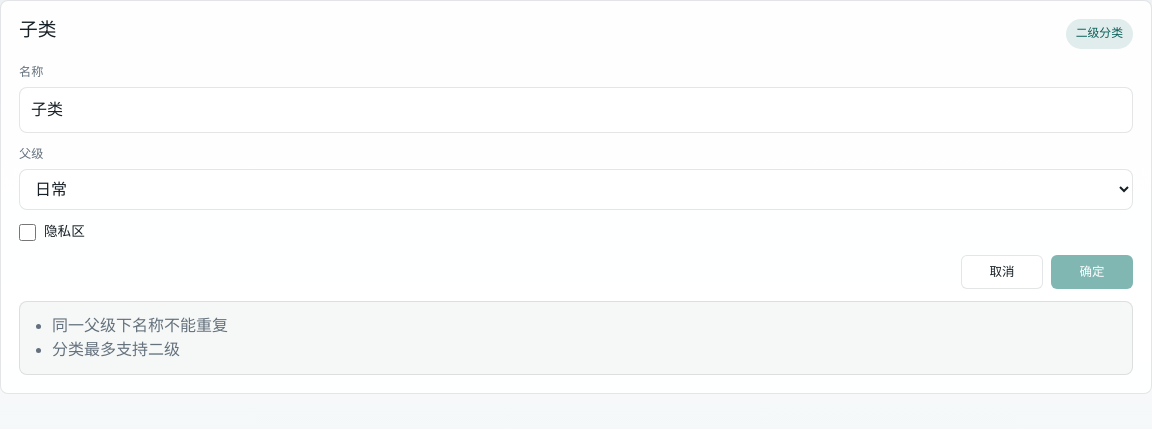
Test: catalog privacy drafts › derives category parent privacy while moving and allows an own flag outside it
Step 1. Select "私人" in the dropdown labelled "父级" → (576, 190), box [19,169,1133,210]
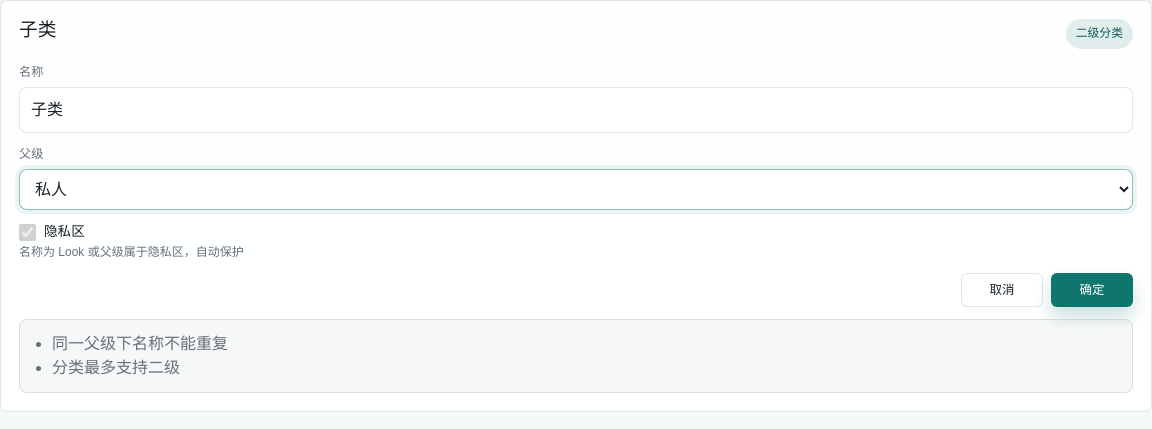
Expected: the checkbox labelled "隐私区" is checked, [19,224,36,241]
Expected: the checkbox labelled "隐私区" is disabled, [19,224,36,241]
Step 2. Select "日常" in the dropdown labelled "父级" → (576, 190), box [19,169,1133,210]
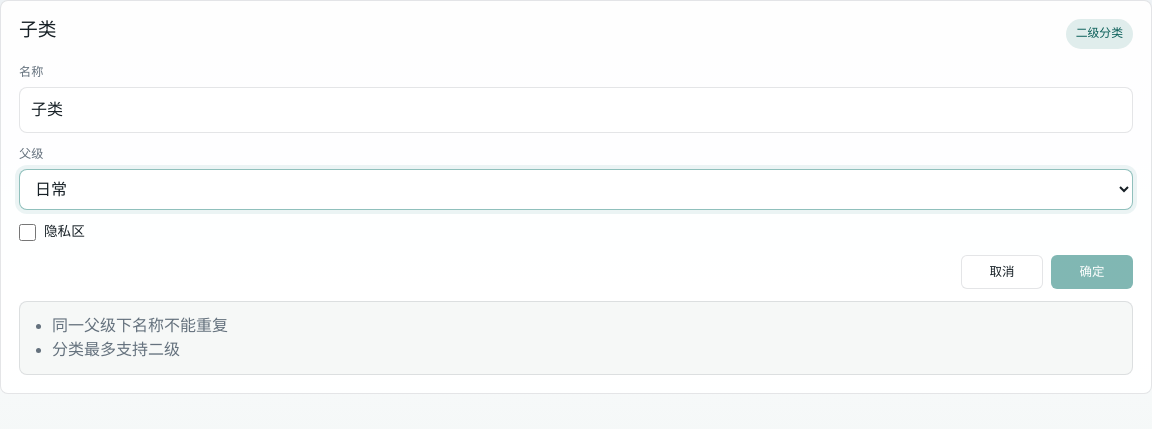
Expected: the checkbox labelled "隐私区" is enabled, [19,224,36,241]
Expected: the checkbox labelled "隐私区" is not checked, [19,224,36,241]
